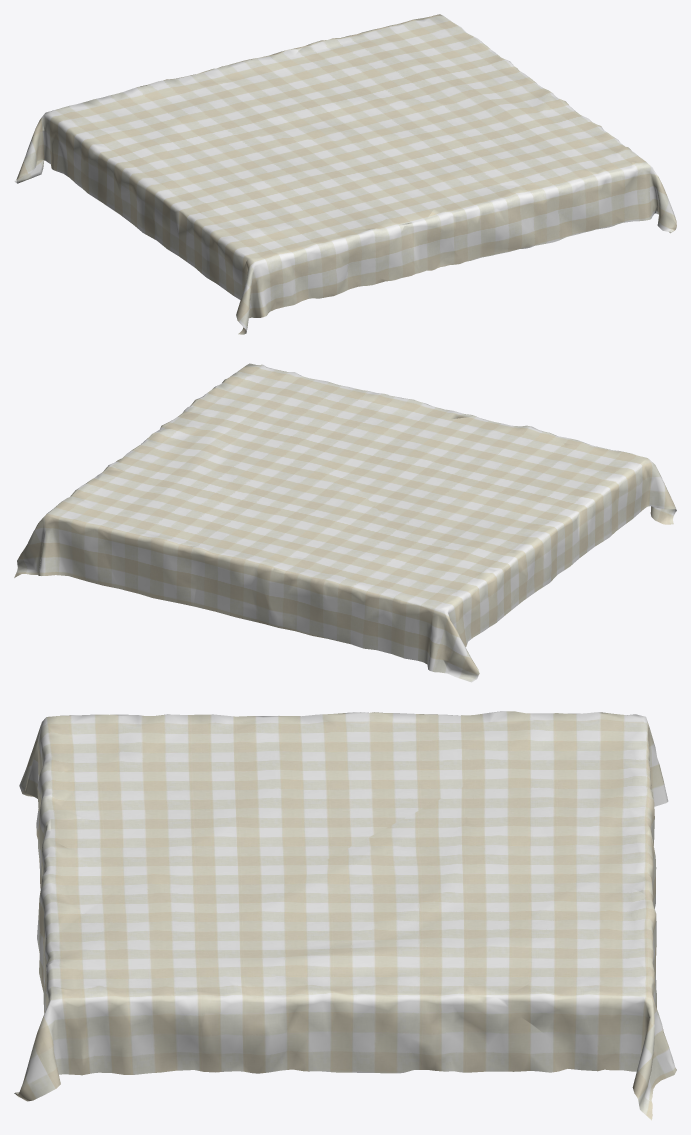
File: skatert_object.fbx
3 renders of one model, top to bottom at view 1: azimuth 30°, elevation 25°; view 2: azimuth 150°, elevation 25°; view 3: azimuth 270°, elevation 25°, orthographic. The views are drawn at different scales.
Parts seen in each view (by area): view 1: default001; view 2: default001; view 3: default001.
Part boxes in pixels (x1=…): default001: x1=14, y1=14, x2=676, y2=334; default001: x1=14, y1=363, x2=676, y2=682; default001: x1=14, y1=711, x2=676, y2=1120.
Size of the model in its own units: 231 by 35.5 by 198.
